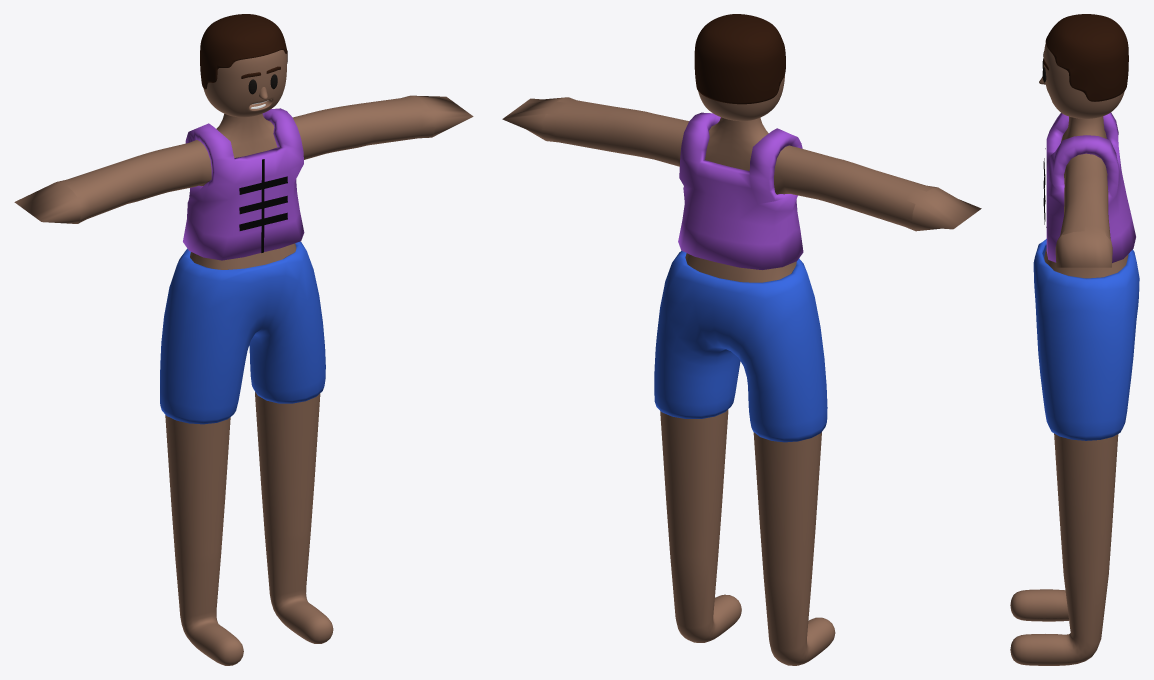
The model's file is NPC kid(blue shorts).fbx.
The picture shows the model from 3 angles, left to right: view 1: azimuth 30°, elevation 25°; view 2: azimuth 150°, elevation 25°; view 3: azimuth 270°, elevation 25°; orthographic projection. The views are drawn at different scales.
Visible parts, largest first — view 1: body, SHORTS, body.001, Cube.005, Cube; view 2: body, SHORTS, body.001, Cube.005, Cube; view 3: body, SHORTS, body.001, Cube.005, Cube.
Boxes of the visible parts, bbox=[...] form: body: bbox=[14, 95, 473, 665]; SHORTS: bbox=[160, 241, 325, 424]; body.001: bbox=[183, 108, 304, 260]; Cube.005: bbox=[200, 14, 287, 89]; Cube: bbox=[203, 50, 286, 117]; body: bbox=[502, 97, 981, 665]; SHORTS: bbox=[654, 250, 827, 442]; body.001: bbox=[678, 112, 803, 269]; Cube.005: bbox=[694, 14, 785, 104]; Cube: bbox=[698, 75, 784, 121]; body: bbox=[1010, 116, 1128, 665]; SHORTS: bbox=[1033, 239, 1139, 440]; body.001: bbox=[1046, 112, 1135, 262]; Cube.005: bbox=[1045, 14, 1128, 101]; Cube: bbox=[1043, 43, 1124, 118].
Bounding box in the file's own units: 148 × 200 × 37.71.
